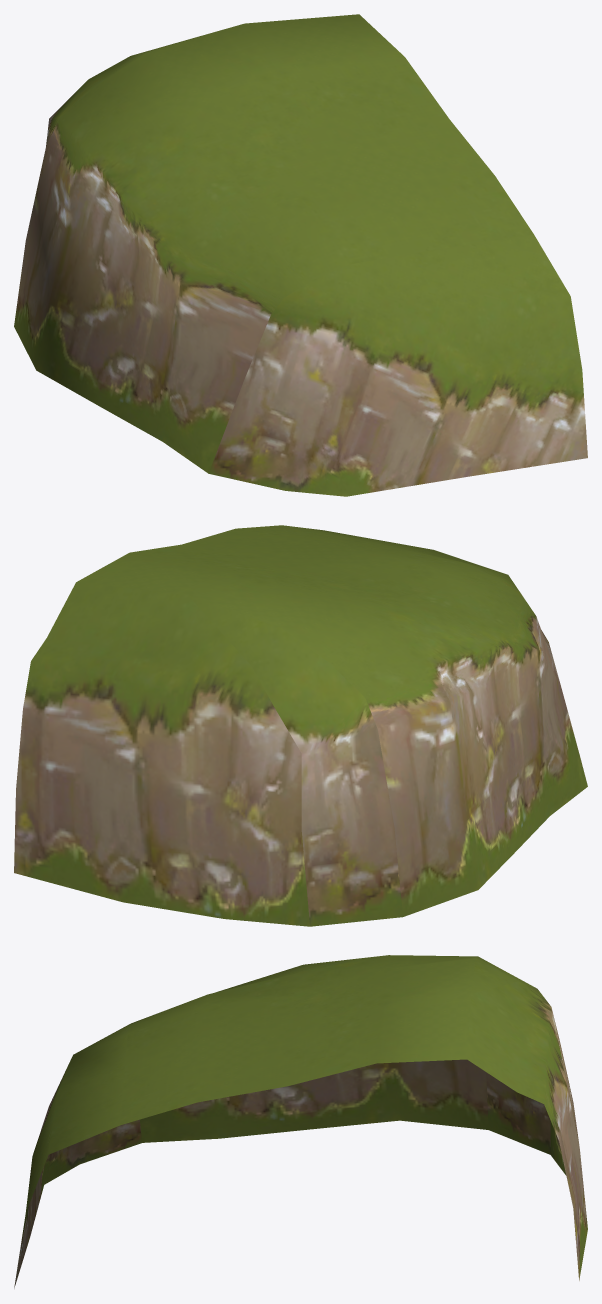
The model's file is gaoyuan_bianyuan_03 (6).fbx.
3 renders of one model, top to bottom at view 1: azimuth 30°, elevation 25°; view 2: azimuth 150°, elevation 25°; view 3: azimuth 270°, elevation 25°, orthographic. The views are drawn at different scales.
Parts seen in each view (by area): view 1: gaoyuan_bianyuan_03 (6); view 2: gaoyuan_bianyuan_03 (6); view 3: gaoyuan_bianyuan_03 (6).
Part boxes in pixels (x1,y1,x2,y2): gaoyuan_bianyuan_03 (6): (14, 14, 587, 496); gaoyuan_bianyuan_03 (6): (14, 525, 587, 926); gaoyuan_bianyuan_03 (6): (14, 955, 587, 1288).
Bounding box in the file's own units: 0.6879 × 0.5006 × 1.03.
